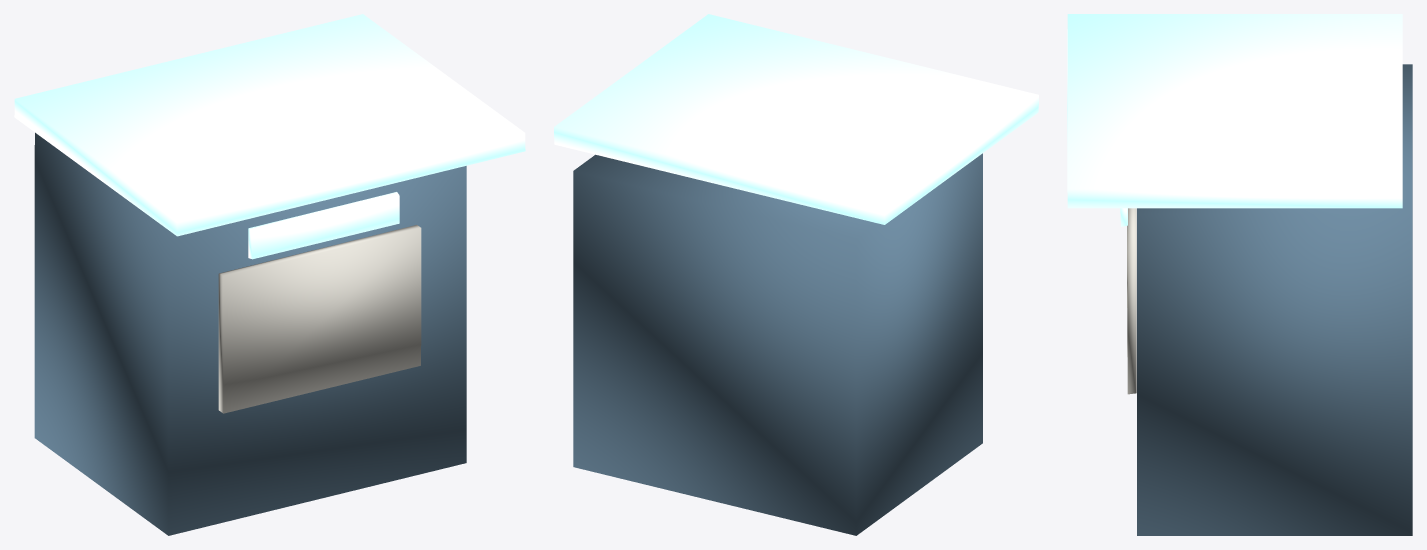
File: SM_Rheinufer_Kiosk_LOD3.fbx
3 views of the same model, side by side, from view 1: azimuth 30°, elevation 25°; view 2: azimuth 150°, elevation 25°; view 3: azimuth 270°, elevation 25° (orthographic). The views are drawn at different scales.
Parts seen in each view (by area): view 1: SM_Rheinufer_Kiosk_LOD3; view 2: SM_Rheinufer_Kiosk_LOD3; view 3: SM_Rheinufer_Kiosk_LOD3.
Part boxes in pixels (box(x1,y1,x2,y2)): SM_Rheinufer_Kiosk_LOD3: box(14, 14, 525, 535); SM_Rheinufer_Kiosk_LOD3: box(554, 14, 1038, 535); SM_Rheinufer_Kiosk_LOD3: box(1067, 14, 1412, 535).
Bounding box in the file's own units: 2.09 × 2 × 1.74.
